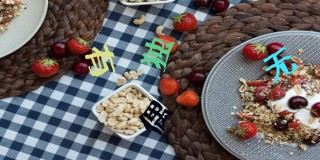偶: (140, 100, 175, 135)
无: (263, 46, 298, 83)
有: (84, 43, 115, 77)
独: (140, 37, 175, 72)
